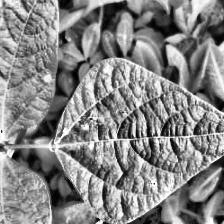Bean Rust: (51, 59, 224, 222), (0, 0, 58, 135), (0, 152, 55, 224)
